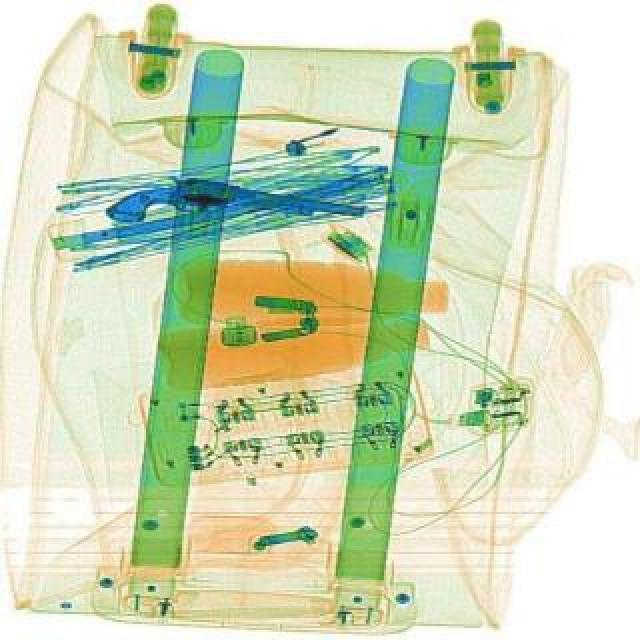gun: (100, 164, 362, 256)
